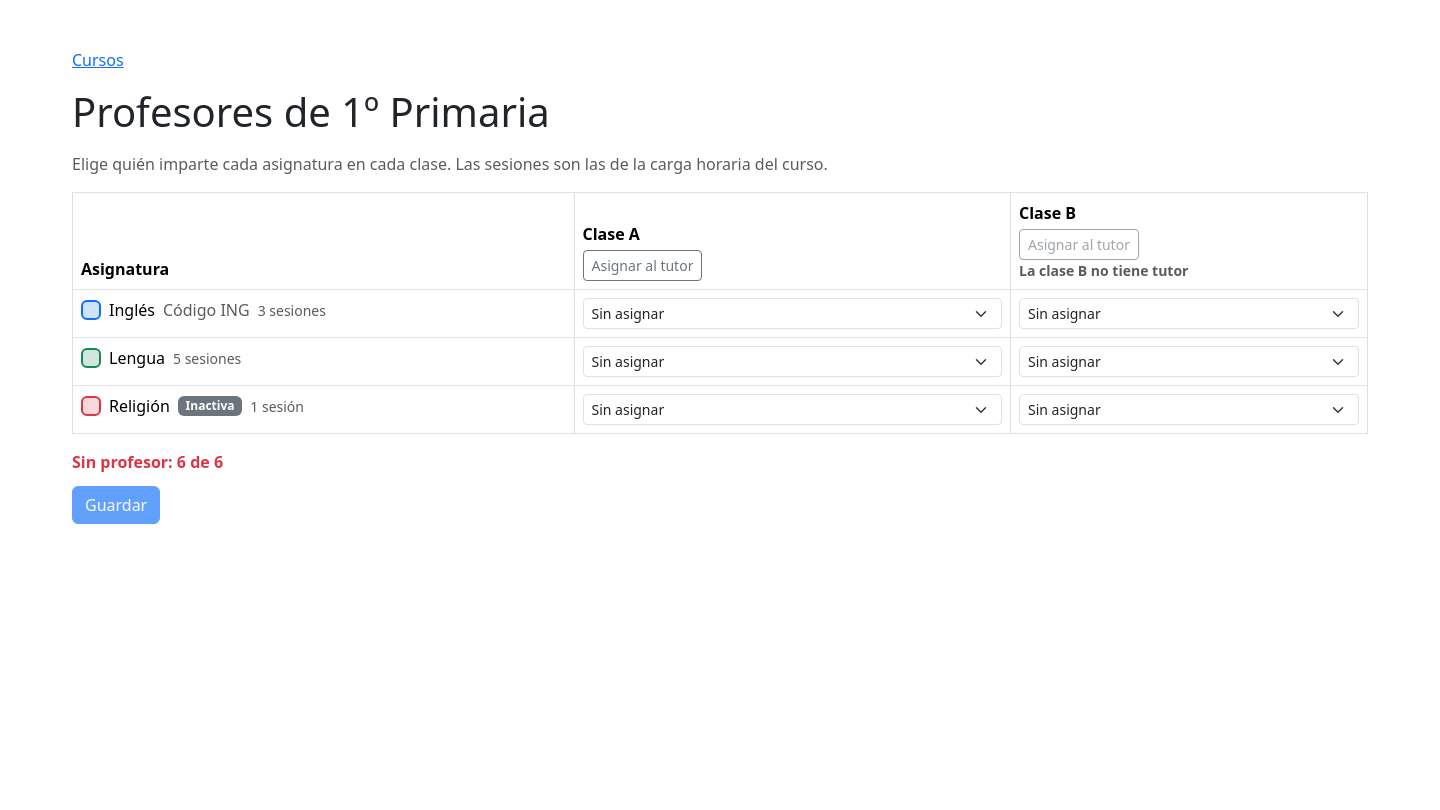
Test: CourseAssignmentsPage › saving › sends the final state in the order of the matrix, stays on the page and shows the notice
Expected: the heading "Profesores de 1º Primaria" is shown, [72,84,550,139]
Expected: the table is shown, [72,192,1368,434]
Select "Pérez, Luis" in the dropdown named "Profesor de Lengua en B": (1189, 362) [1019,346,1359,377]
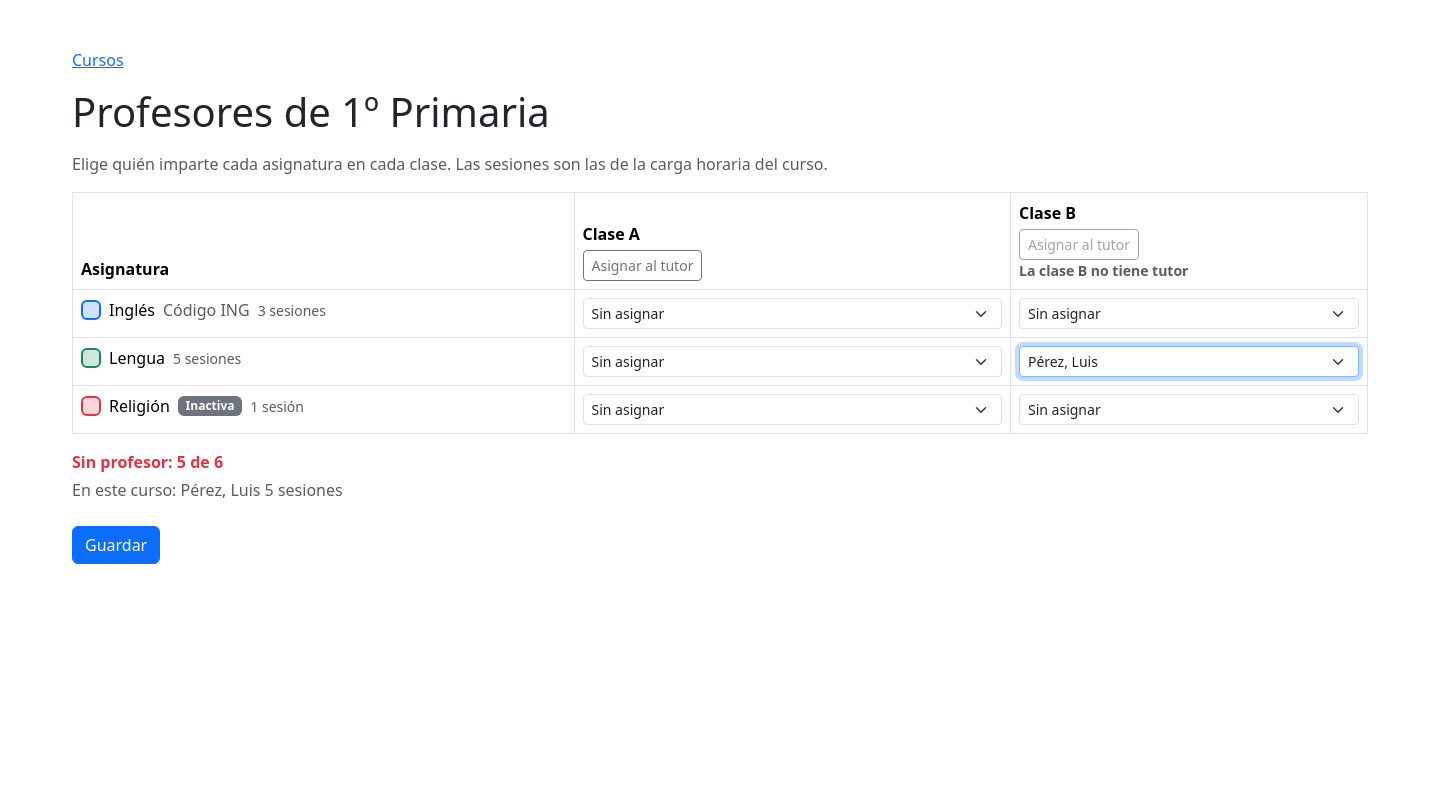
Select "García, Ana · tutor/a de A" in the dropdown named "Profesor de Inglés en A": (792, 314) [582,298,1002,329]
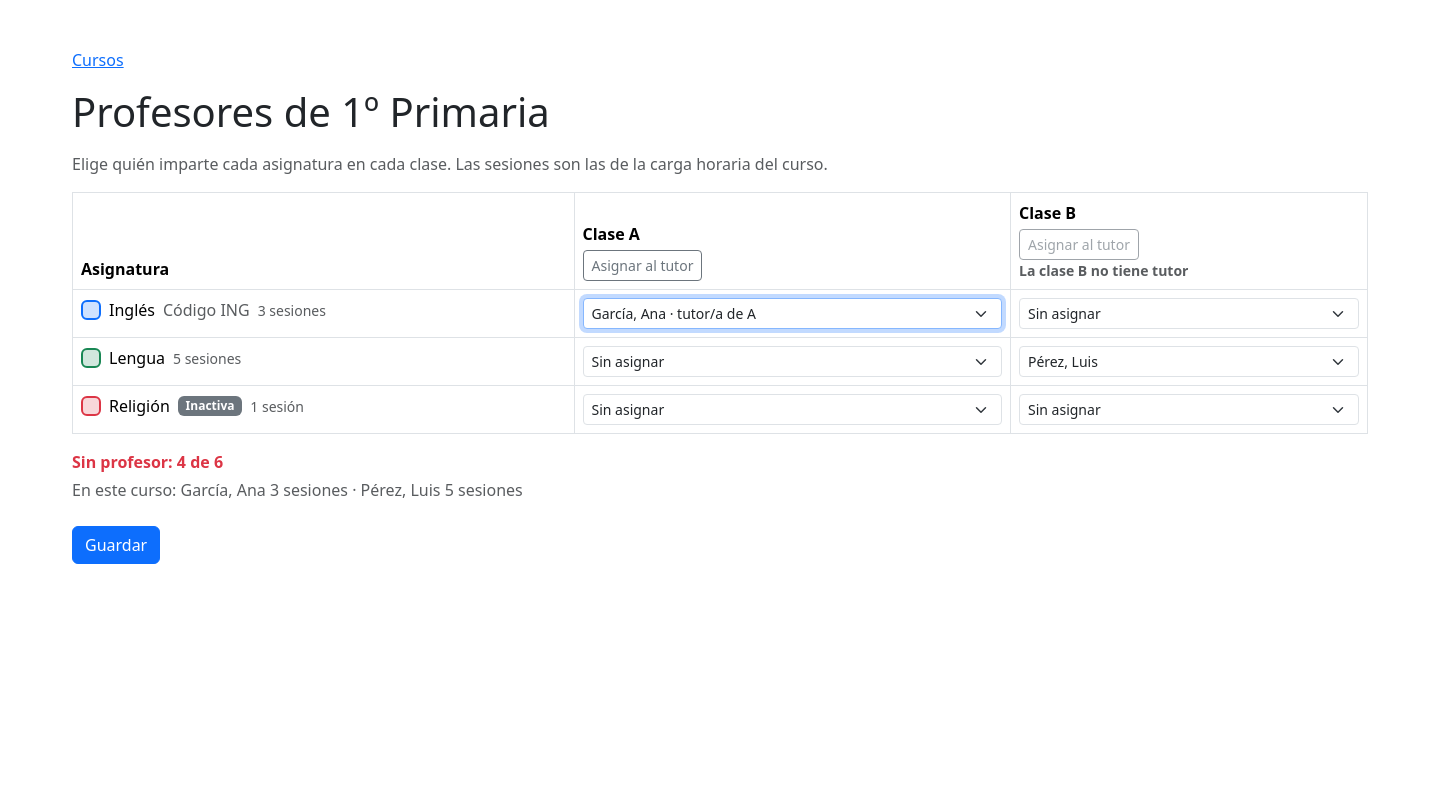
Click the button "Guardar": (116, 545) [72,526,160,564]
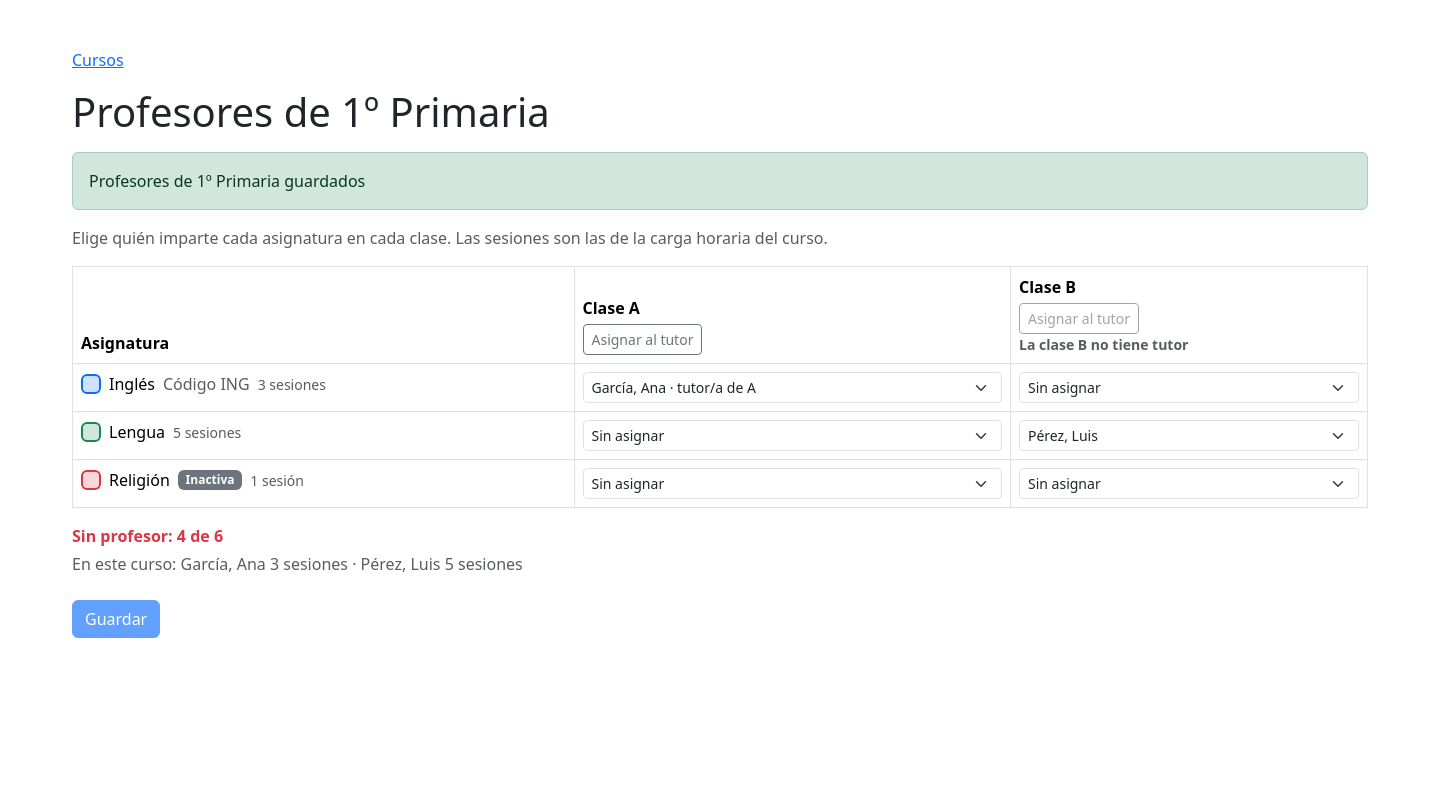
Expected: the text "Profesores de 1º Primaria guardados" is shown, [72,152,1368,210]
Expected: the button "Guardar" is disabled, [72,600,160,638]
